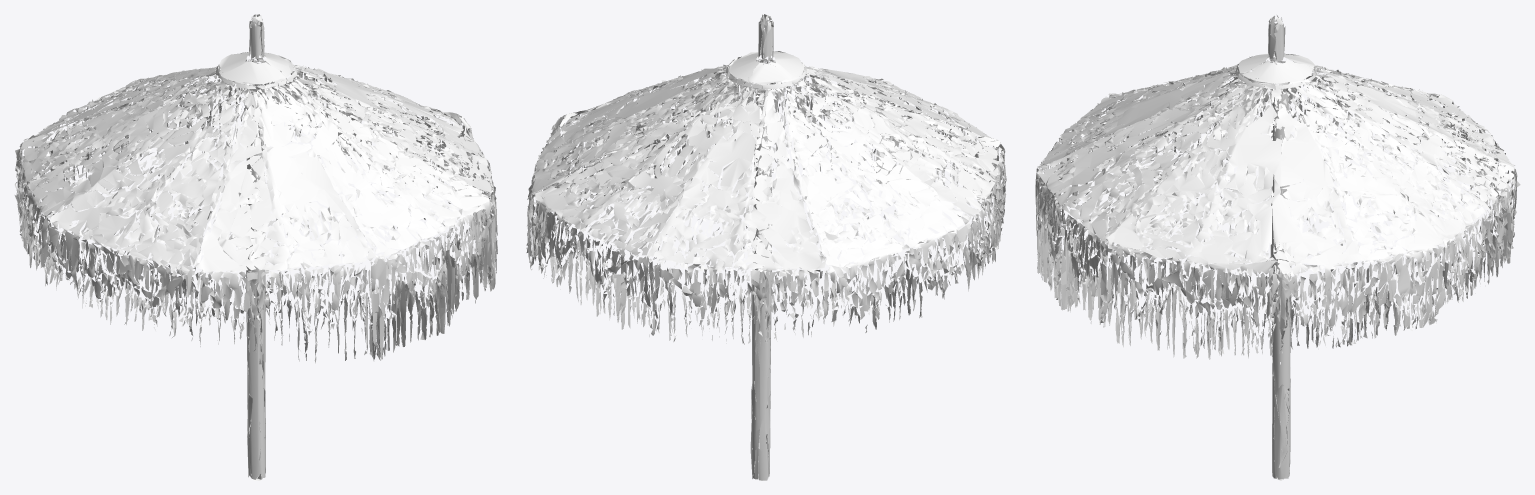
Rendered from beach-umbrella.glb.
The picture shows the model from 3 angles, left to right: view 1: azimuth 30°, elevation 25°; view 2: azimuth 150°, elevation 25°; view 3: azimuth 270°, elevation 25°; orthographic projection.
Visible parts, largest first — view 1: model; view 2: model; view 3: model.
Boxes of the visible parts, x1,y1,x2,y2 form: model: (14,14,497,480); model: (526,14,1006,480); model: (1035,15,1520,480).
Bounding box in the file's own units: 1.81 × 1.89 × 1.81.
Materials: 1 (1 with a texture image).
